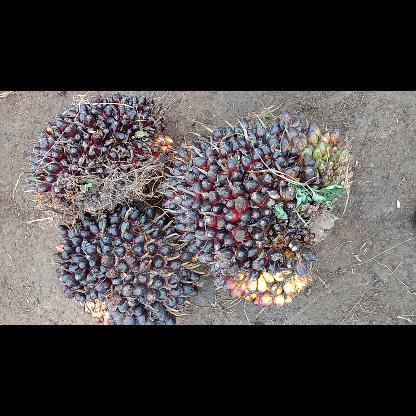TBS mentah: (160, 107, 356, 310), (23, 90, 174, 218), (51, 200, 203, 324)
